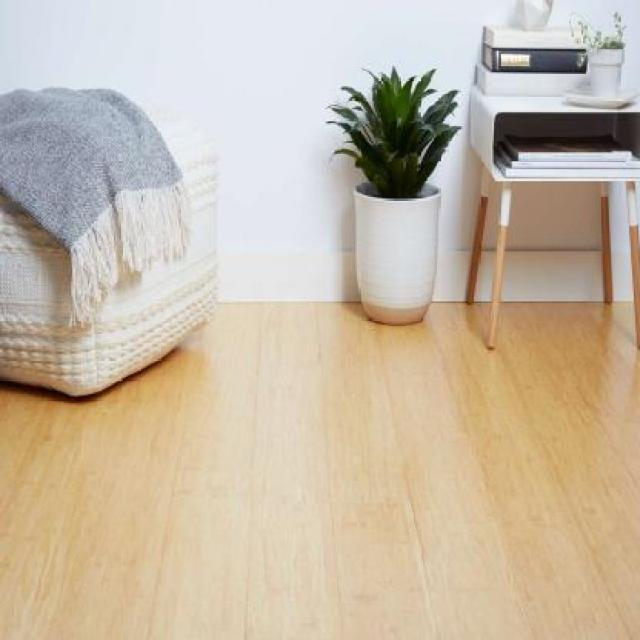Floor: (0, 299, 640, 639)
